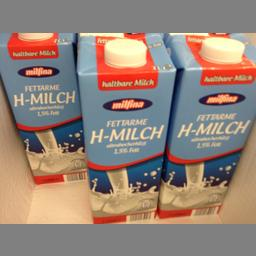milk: (78, 34, 177, 223), (159, 32, 254, 218), (0, 32, 87, 183)
